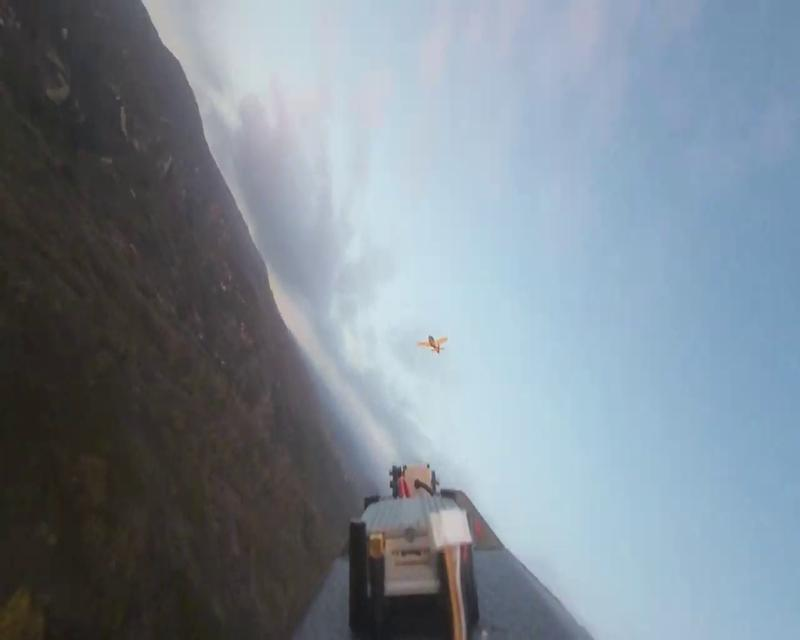UAV: (415, 334, 447, 354)
